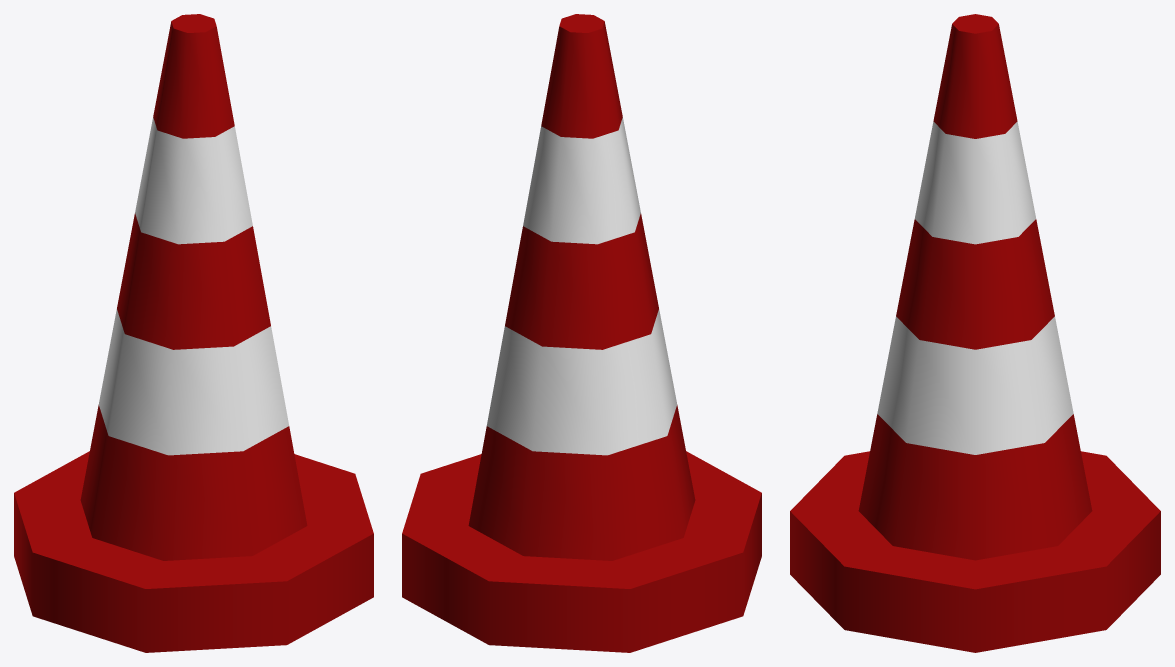
The picture shows the model from 3 angles, left to right: view 1: azimuth 30°, elevation 25°; view 2: azimuth 150°, elevation 25°; view 3: azimuth 270°, elevation 25°; orthographic projection.
Visible parts, largest first — view 1: Cone; view 2: Cone; view 3: Cone.
Part boxes in pixels (<box>): Cone: <box>14,14,373,652</box>; Cone: <box>402,14,761,652</box>; Cone: <box>790,14,1160,652</box>.
Bounding box in the file's own units: 0.793 × 0.793 × 1.3.
